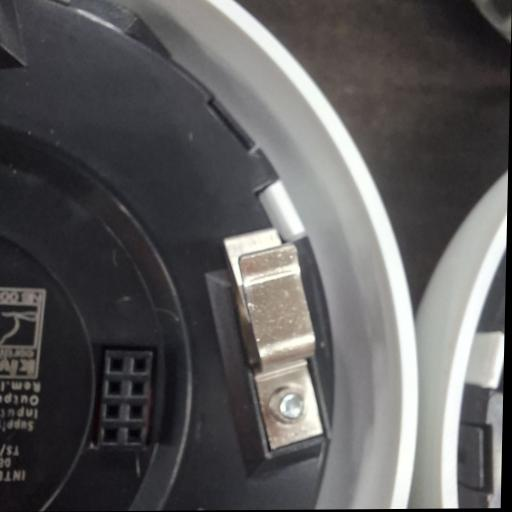yayli: (214, 224, 333, 455)
